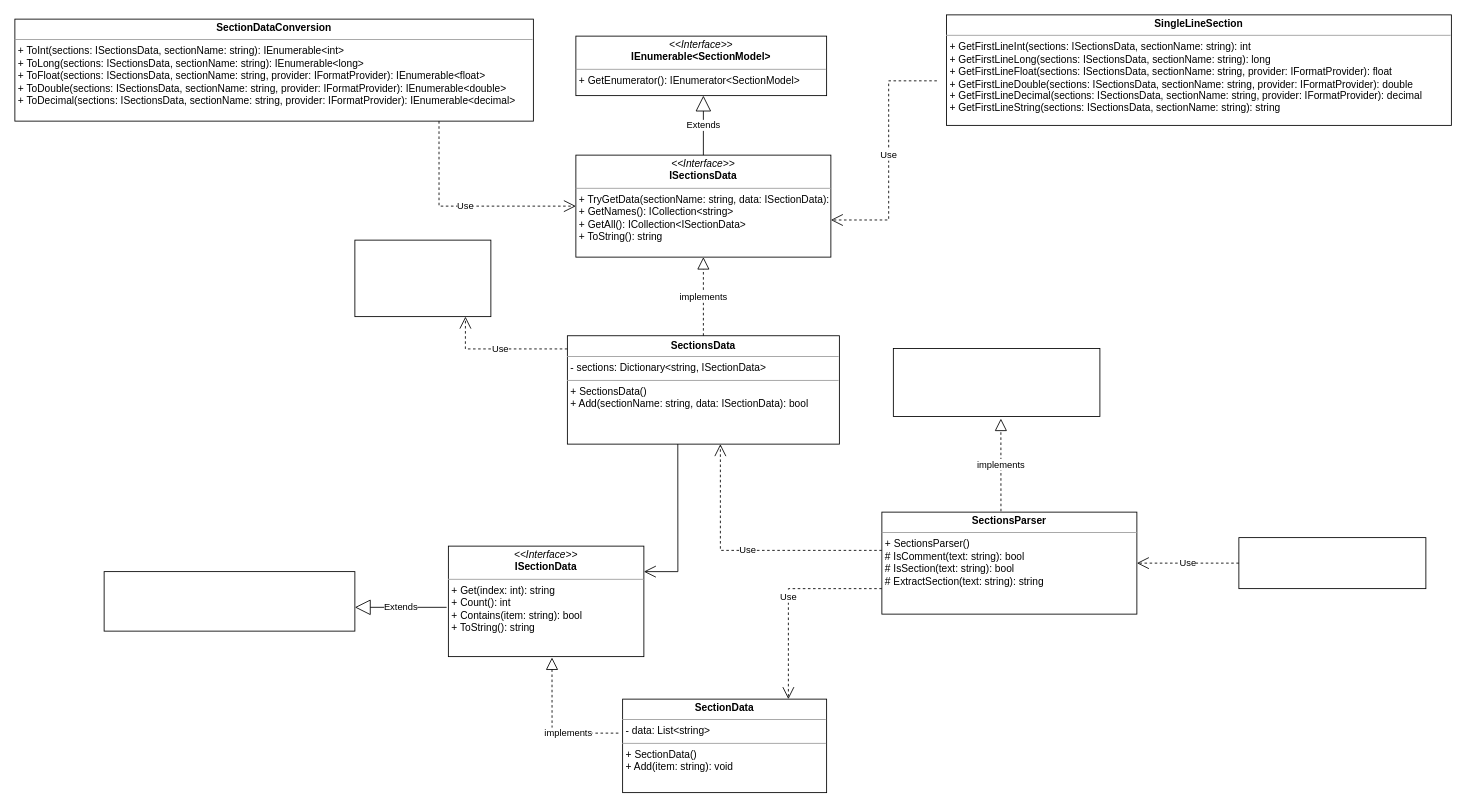
The diagram is 1466 pixels wide and 808 high, and some of its shapes have lost their labels. The centre of each missing label's shape, as x and y in pixels:
<<Interface>> IEnumerable<string> + GetEnumerator(): IEnumerator<string>: the point at 229,601
<<Interface>> ISectionsParser + Parse(data: string): ISectionsData: the point at 996,382
SectionModel - name: string - data: ISectionData + ToString(): string: the point at 422,278
SectionsFile + Load(path: string): ISectionsData: the point at 1332,563
